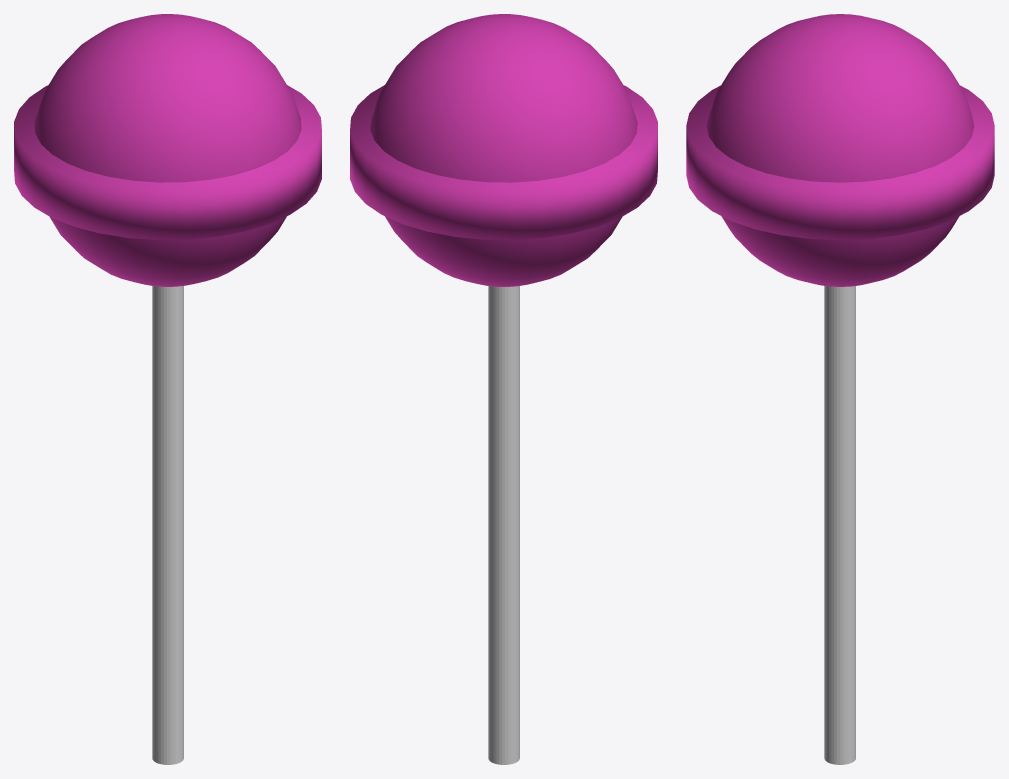
The model's file is lollipop.fbx.
3 views of the same model, side by side, from view 1: azimuth 30°, elevation 25°; view 2: azimuth 150°, elevation 25°; view 3: azimuth 270°, elevation 25° (orthographic).
Parts seen in each view (by area): view 1: Lollipop, Stick; view 2: Lollipop, Stick; view 3: Lollipop, Stick.
Part boxes in pixels (left/top/right/bottom): Lollipop: left=14, top=14, right=321, bottom=286; Stick: left=152, top=286, right=183, bottom=764; Lollipop: left=350, top=14, right=657, bottom=286; Stick: left=488, top=286, right=519, bottom=764; Lollipop: left=686, top=14, right=994, bottom=286; Stick: left=824, top=286, right=855, bottom=764.
Size of the model in its own units: 339 by 887 by 339.
